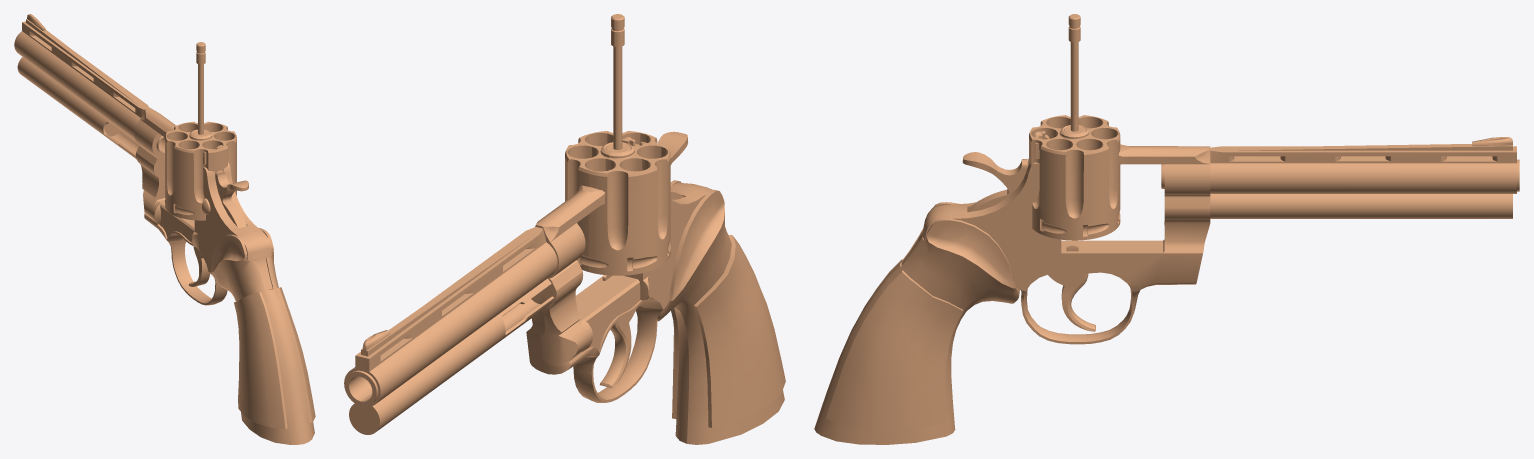
File: revolver.fbx
3 renders of one model, left to right at view 1: azimuth 30°, elevation 25°; view 2: azimuth 150°, elevation 25°; view 3: azimuth 270°, elevation 25°, orthographic. The views are drawn at different scales.
Parts seen in each view (by area): view 1: grip_low.001, barrel_low.001, body_low.001, wheel_low.001, wheel_rot_low.001, Hammer_low.001, handle_low.001, trigger_low.001; view 2: grip_low.001, barrel_low.001, body_low.001, wheel_low.001, wheel_rot_low.001, handle_low.001, trigger_low.001, Hammer_low.001; view 3: grip_low.001, barrel_low.001, body_low.001, wheel_low.001, Hammer_low.001, handle_low.001, trigger_low.001.
Boxes of the visible parts, x1,y1,x2,y2 form: grip_low.001: (211,228,315,444); barrel_low.001: (14,14,149,158); body_low.001: (134,107,272,305); wheel_low.001: (165,121,236,220); wheel_rot_low.001: (135,145,165,218); Hammer_low.001: (215,170,248,227); handle_low.001: (189,42,212,141); trigger_low.001: (188,246,210,286); grip_low.001: (657,180,785,444); barrel_low.001: (344,227,557,434); body_low.001: (526,183,712,402); wheel_low.001: (565,131,670,275); wheel_rot_low.001: (534,260,588,366); handle_low.001: (600,14,634,159); trigger_low.001: (600,309,636,388); Hammer_low.001: (658,131,688,199); grip_low.001: (814,202,1019,444); barrel_low.001: (1210,137,1519,218); body_low.001: (901,144,1210,344); wheel_low.001: (1029,115,1120,240); Hammer_low.001: (962,152,1028,212); handle_low.001: (1059,14,1089,139); trigger_low.001: (1048,273,1095,331).
Size of the model in its own units: 0.0376 by 0.1872 by 0.2894.
